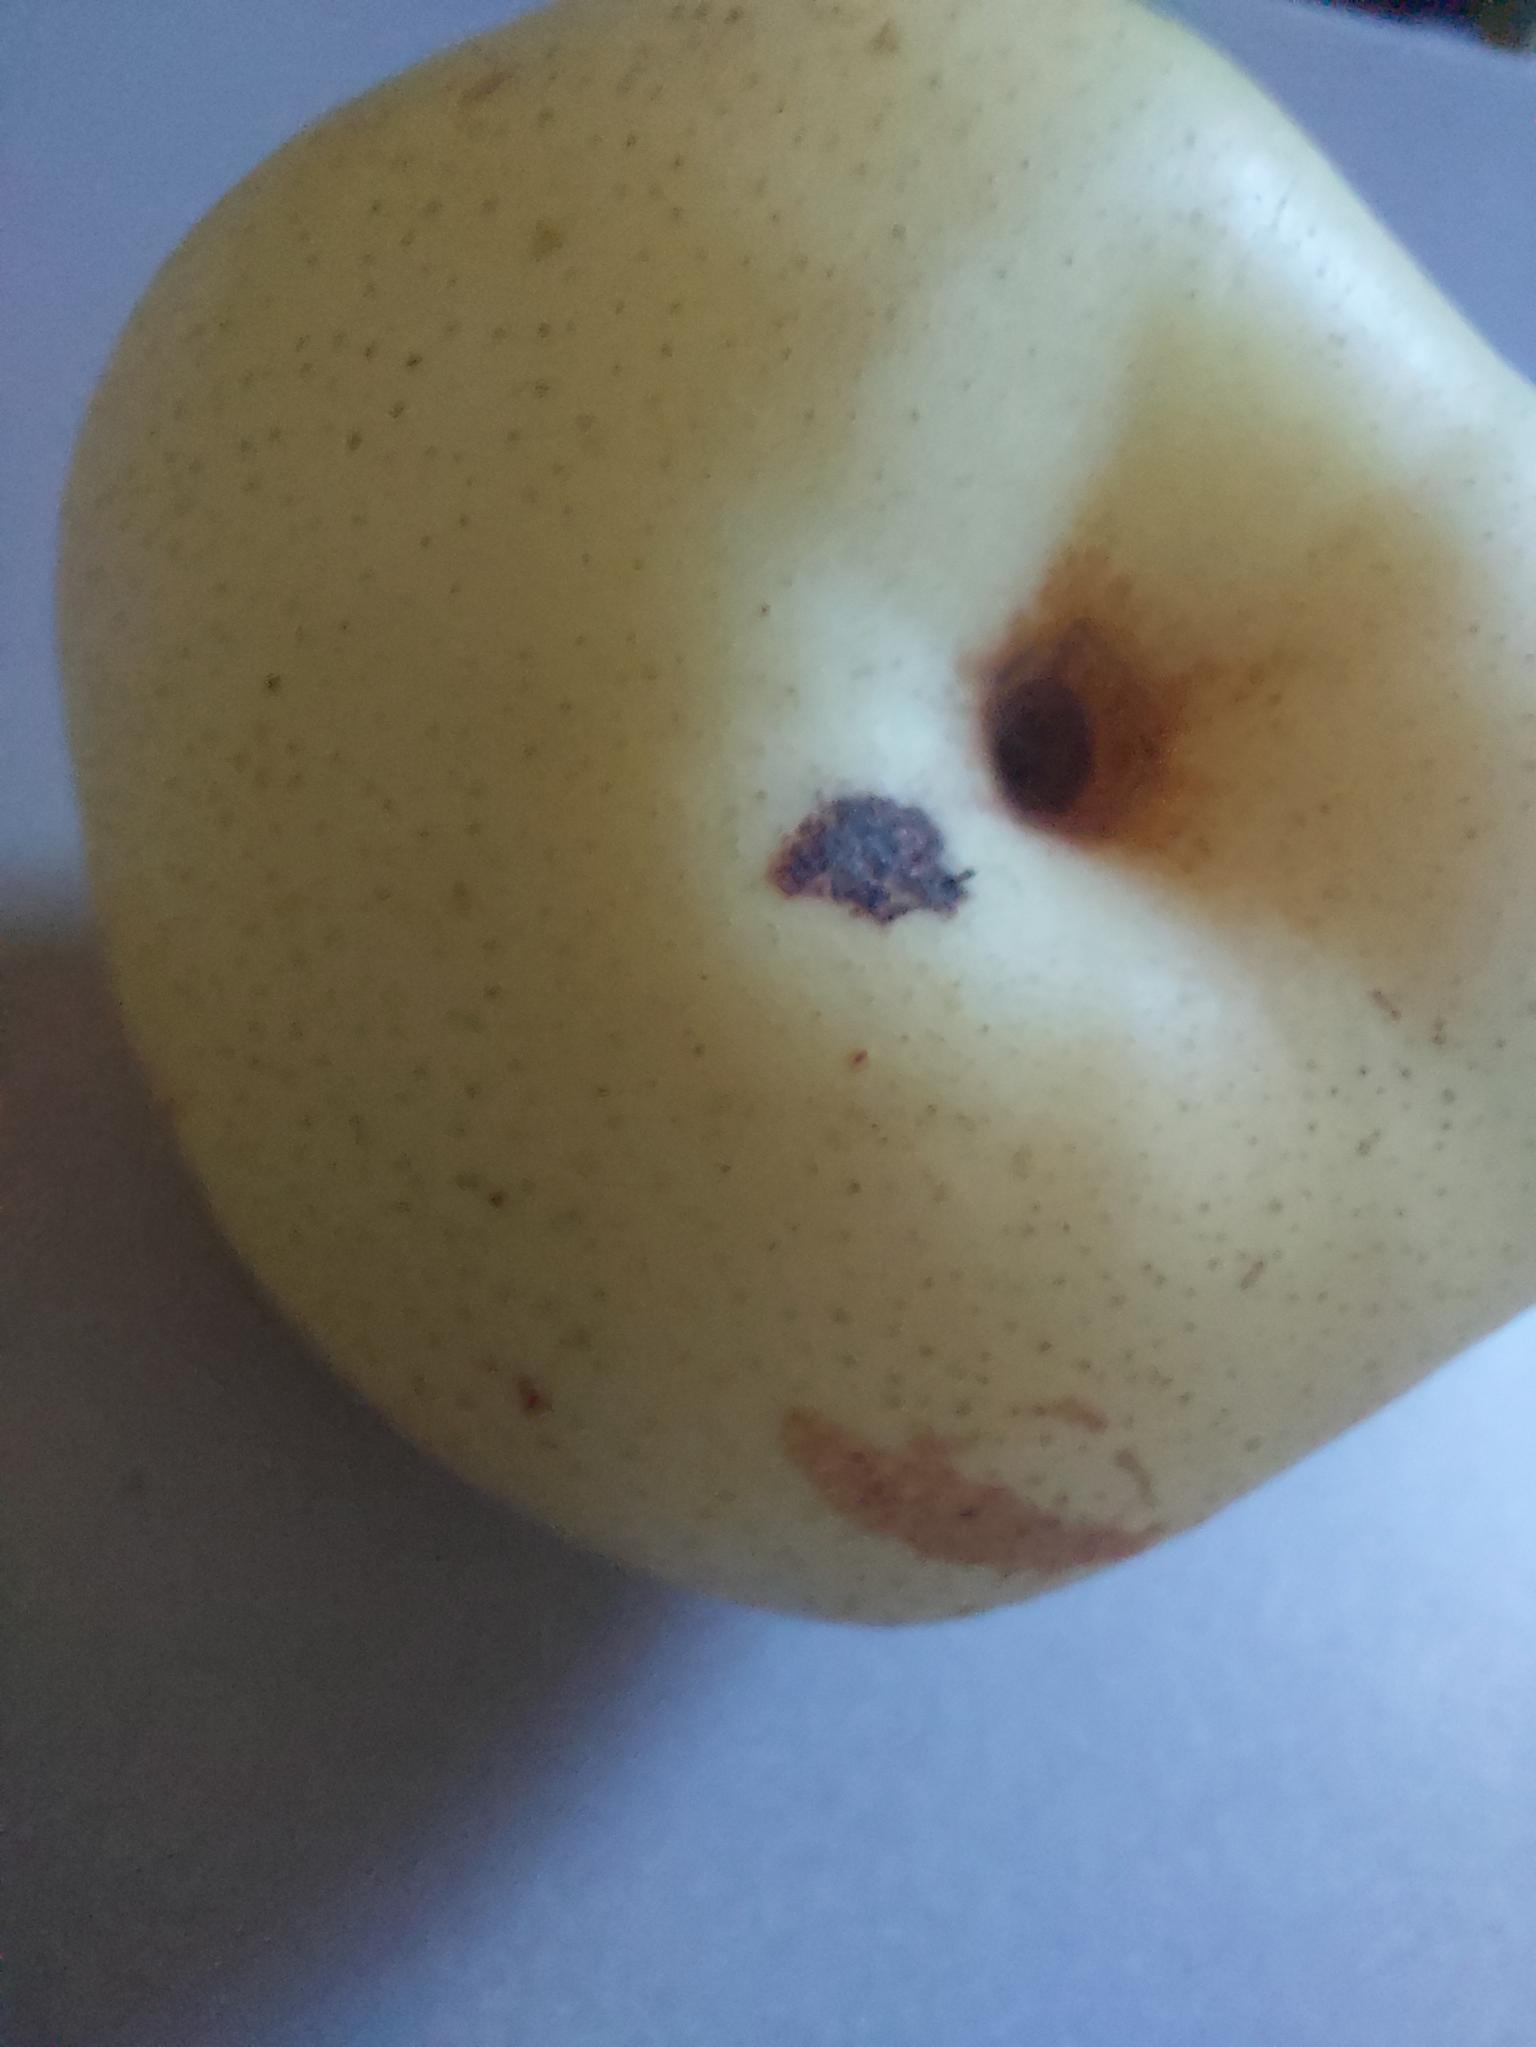Good Pear: (40, 0, 1536, 1645)
